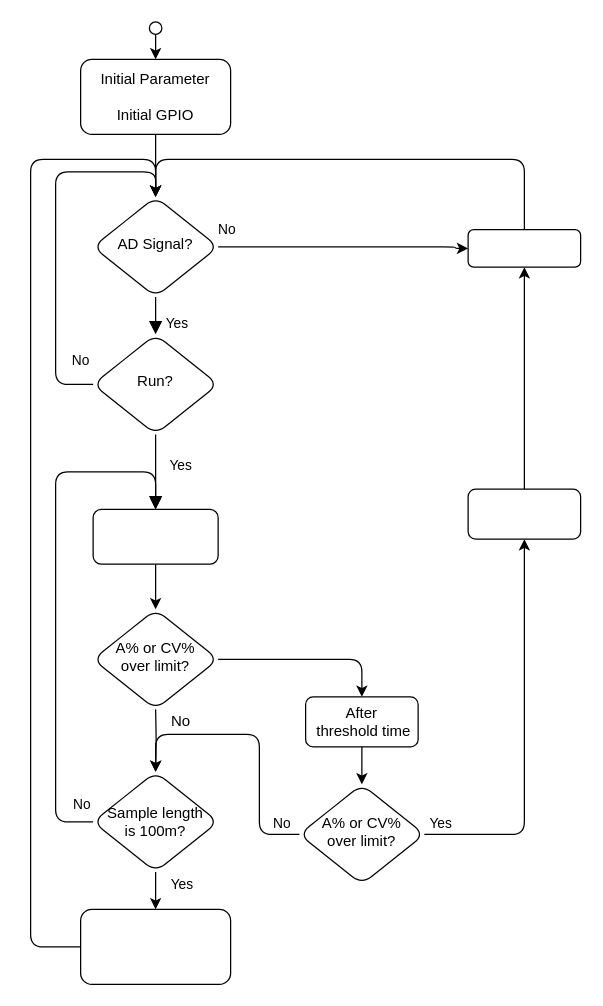
The diagram is 603 pixels wide and 1006 high, and some of its shapes have lost their labels. The shapes that lost their labels are listed below. From the top down, each one's centre as x and y in pixels, then its label:
At [524,247]: "Error Record".
At [524,513]: "Emit Stop Signal".
At [155,536]: "Sample length is 100cm".
At [155,946]: "Plot Graphics and Record Quality".
